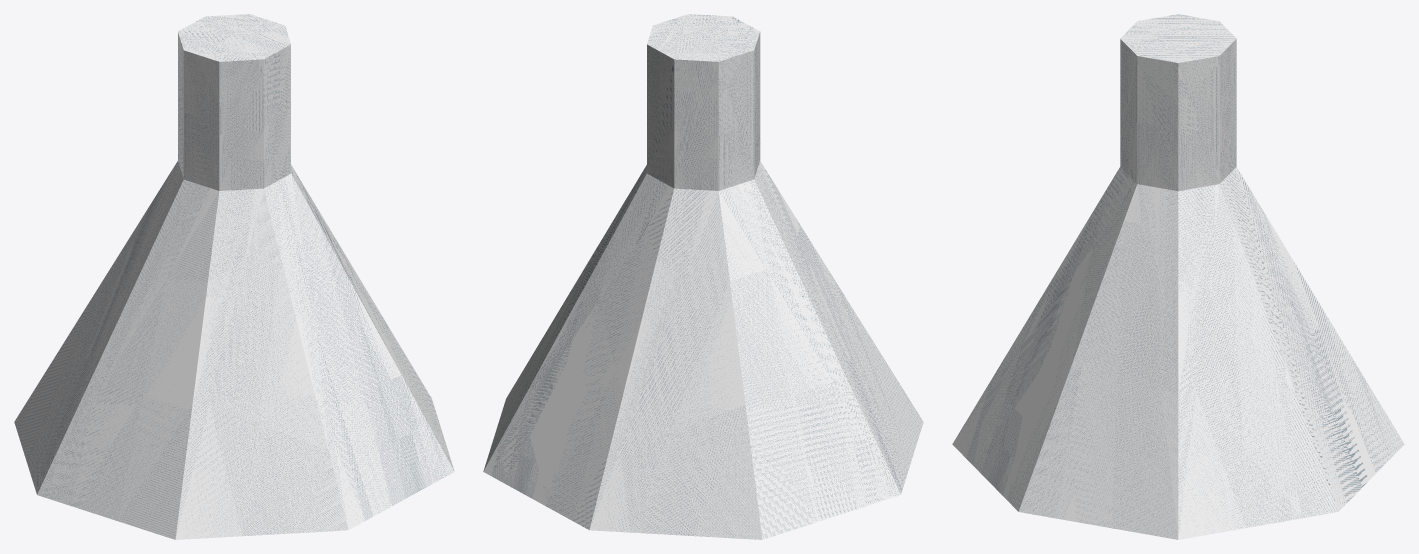
Rendered from Erlenmeyer_Liquid.obj.
3 renders of one model, left to right at view 1: azimuth 30°, elevation 25°; view 2: azimuth 150°, elevation 25°; view 3: azimuth 270°, elevation 25°, orthographic.
Visible parts, largest first — view 1: Mesh1 Model; view 2: Mesh1 Model; view 3: Mesh1 Model.
Part boxes in pixels (box(x1,y1,x2,y2)): Mesh1 Model: box(14, 14, 454, 539); Mesh1 Model: box(483, 14, 923, 539); Mesh1 Model: box(952, 14, 1404, 539).
Bounding box in the file's own units: 0.096 × 0.095 × 0.096.
